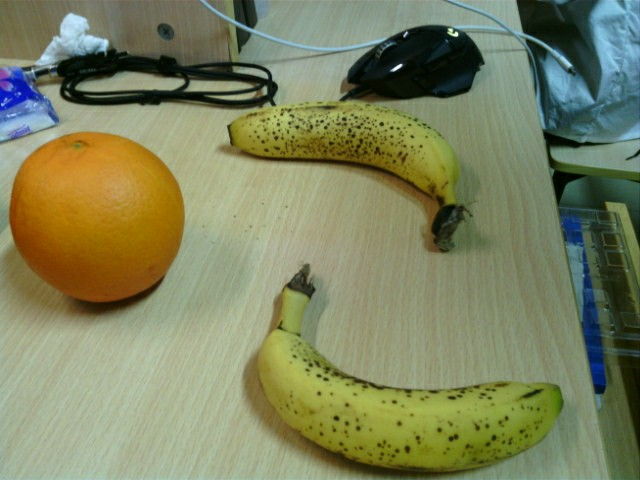normal_banana: (260, 265, 565, 471), (226, 101, 471, 255)
normal_orange: (10, 132, 183, 303)
